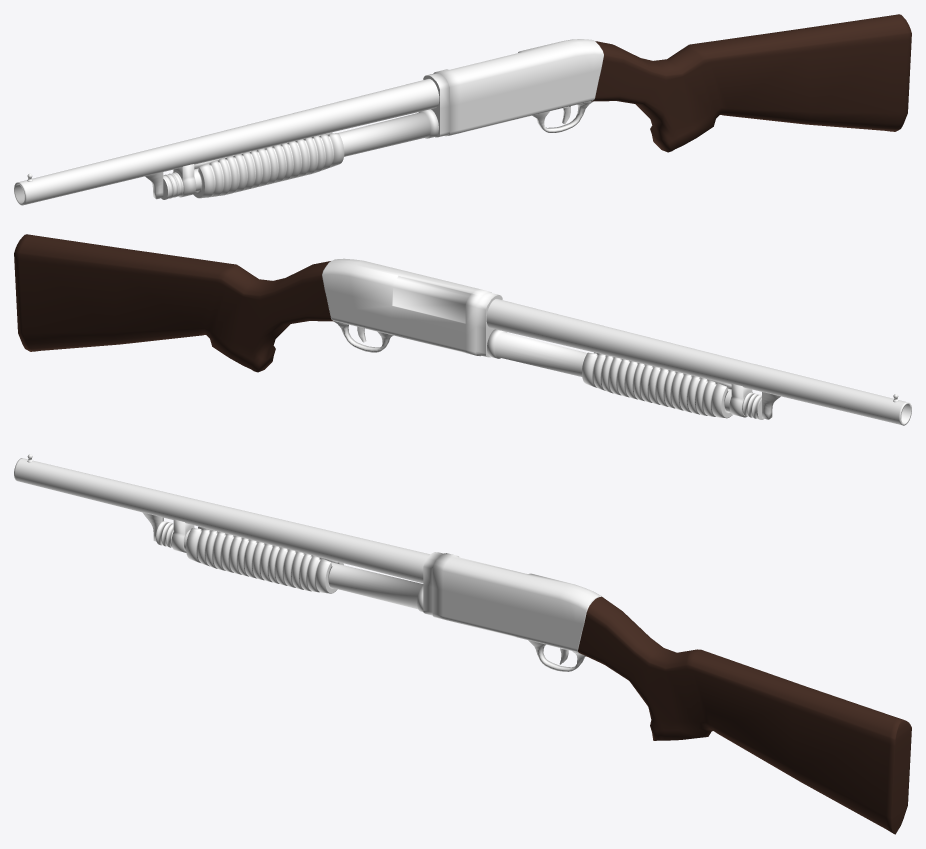
Rendered from shotgun.gltf.
3 views of the same model, one above another, from view 1: azimuth 30°, elevation 25°; view 2: azimuth 150°, elevation 25°; view 3: azimuth 330°, elevation 25° (orthographic).
Visible parts, largest first — view 1: Shotgun_final_Cylinder.006; view 2: Shotgun_final_Cylinder.006; view 3: Shotgun_final_Cylinder.006.
Boxes of the visible parts, bbox=[...] form: Shotgun_final_Cylinder.006: bbox=[14, 14, 911, 205]; Shotgun_final_Cylinder.006: bbox=[14, 234, 911, 425]; Shotgun_final_Cylinder.006: bbox=[14, 454, 911, 834].
Size of the model in its own units: 6.01 by 1.1 by 0.2226.
